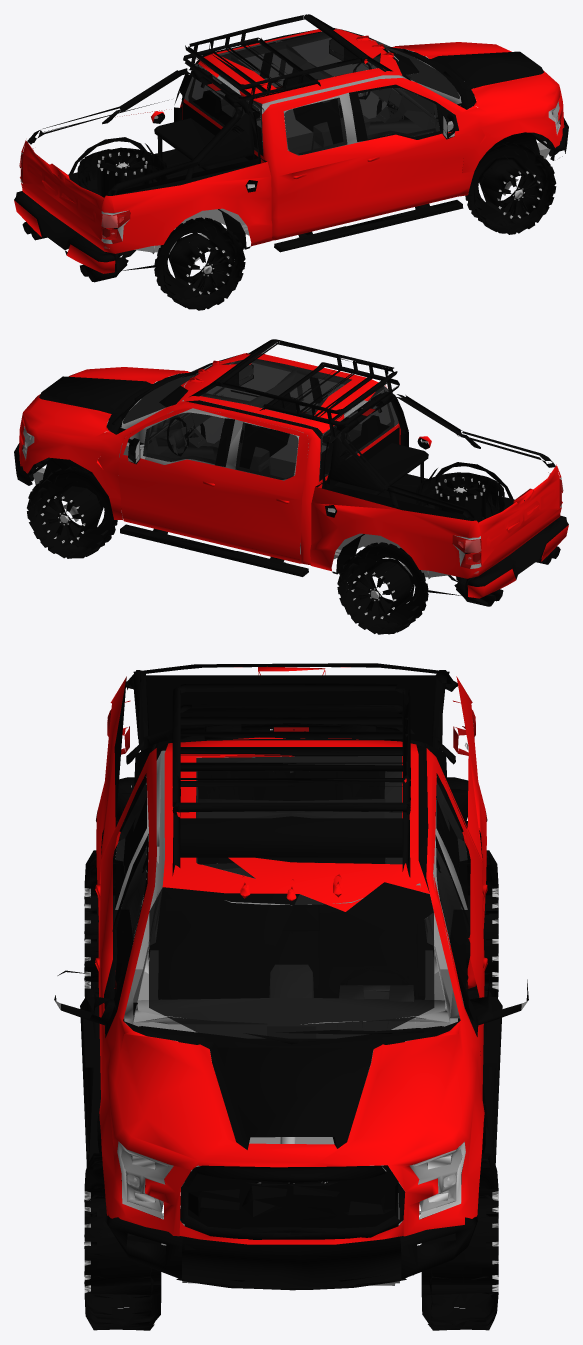
File: veh-pickup.glb
The picture shows the model from 3 angles, top to bottom: view 1: azimuth 30°, elevation 25°; view 2: azimuth 150°, elevation 25°; view 3: azimuth 270°, elevation 25°; orthographic projection. The views are drawn at different scales.
Visible parts, largest first — view 1: Material2; view 2: Material2; view 3: Material2.
Boxes of the visible parts, x1=… form: Material2: x1=14, y1=14, x2=568, y2=310; Material2: x1=14, y1=339, x2=568, y2=634; Material2: x1=54, y1=663, x2=528, y2=1330.
Bounding box in the file's own units: 224 × 84.33 × 92.69.
